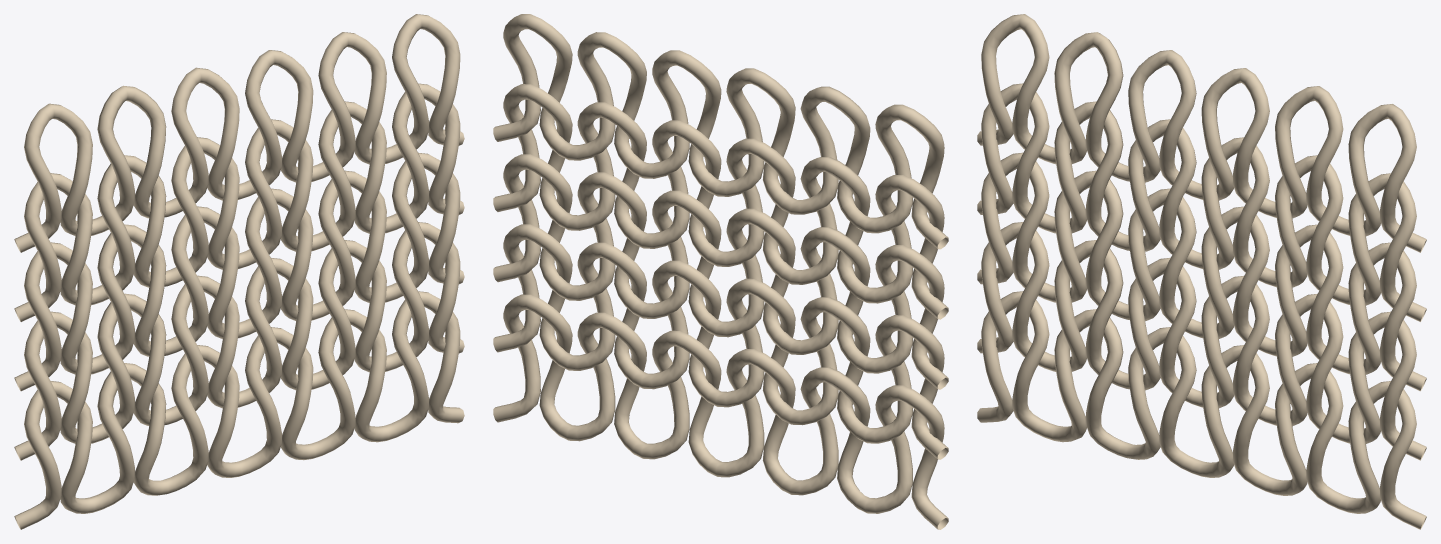
Rendered from knit-lattice-v1.glb.
3 views of the same model, side by side, from view 1: azimuth 30°, elevation 25°; view 2: azimuth 150°, elevation 25°; view 3: azimuth 330°, elevation 25° (orthographic).
Parts seen in each view (by area): view 1: course-5, course-1, course-4, course-3, course-2; view 2: course-1, course-5, course-2, course-3, course-4; view 3: course-5, course-1, course-3, course-2, course-4.
Part boxes in pixels (bbox=[...]): course-5: bbox=[14, 14, 464, 252]; course-1: bbox=[14, 291, 464, 529]; course-4: bbox=[14, 83, 464, 321]; course-3: bbox=[14, 152, 464, 391]; course-2: bbox=[14, 222, 464, 460]; course-1: bbox=[493, 294, 948, 529]; course-5: bbox=[493, 14, 948, 249]; course-2: bbox=[493, 224, 948, 459]; course-3: bbox=[493, 154, 948, 389]; course-4: bbox=[493, 84, 948, 319]; course-5: bbox=[977, 14, 1426, 252]; course-1: bbox=[977, 291, 1426, 529]; course-3: bbox=[977, 152, 1426, 391]; course-2: bbox=[977, 222, 1426, 460]; course-4: bbox=[977, 83, 1426, 321].
Size of the model in its own units: 6.08 by 5.38 by 0.5222.
